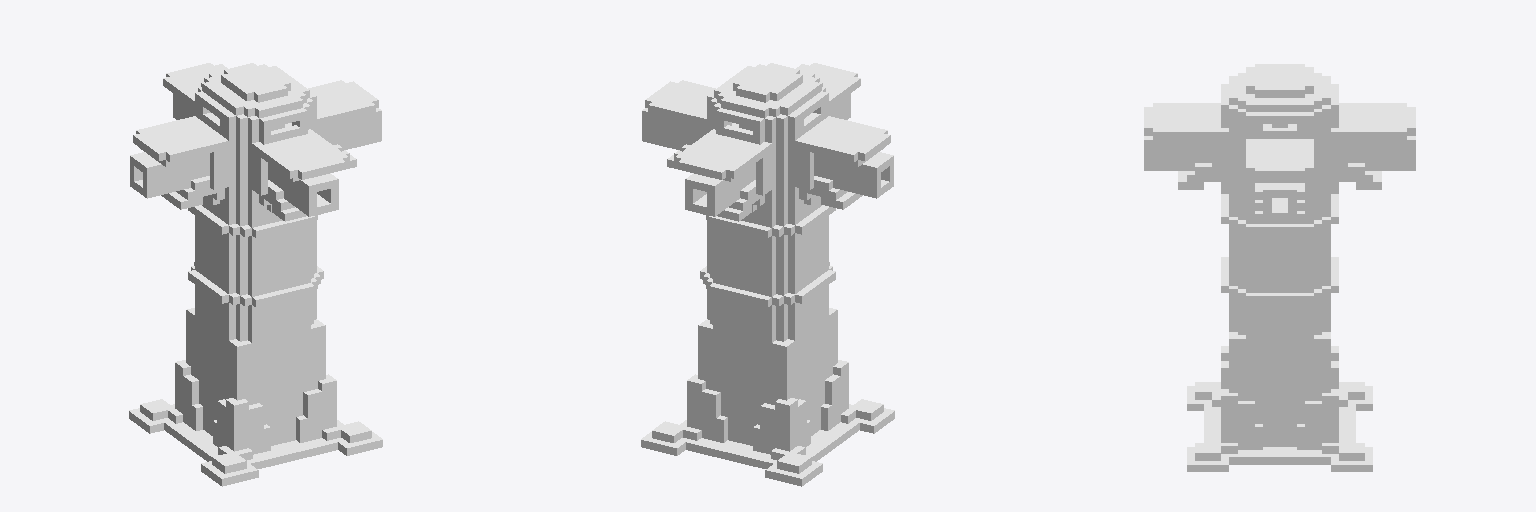
Rendered from torre_lanzabombas.obj.
3 renders of one model, left to right at view 1: azimuth 30°, elevation 25°; view 2: azimuth 150°, elevation 25°; view 3: azimuth 270°, elevation 25°, orthographic.
Size of the model in its own units: 32 by 46 by 32.